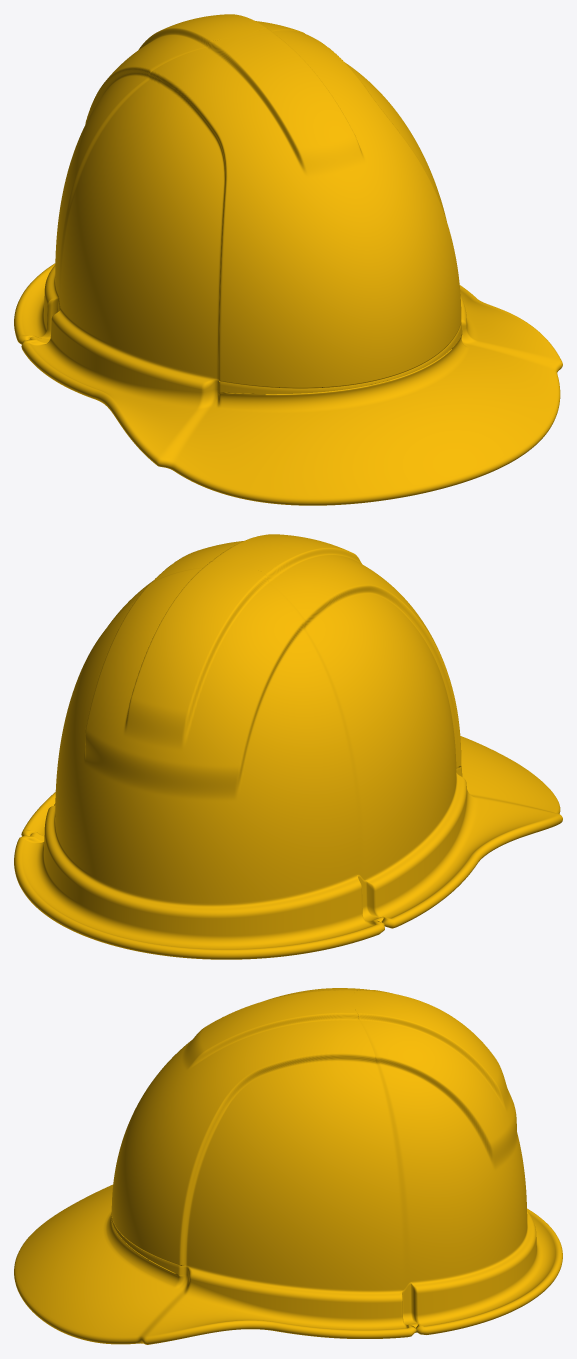
Rendered from hard_hat_classic.glb.
The picture shows the model from 3 angles, top to bottom: view 1: azimuth 30°, elevation 25°; view 2: azimuth 150°, elevation 25°; view 3: azimuth 270°, elevation 25°; orthographic projection. The views are drawn at different scales.
Visible parts, largest first — view 1: HardHat; view 2: HardHat; view 3: HardHat.
Boxes of the visible parts, x1,y1,x2,y2 form: HardHat: (14,14,562,505); HardHat: (14,534,562,959); HardHat: (14,988,562,1344).
Bounding box in the file's own units: 0.2138 × 0.1567 × 0.2821.
